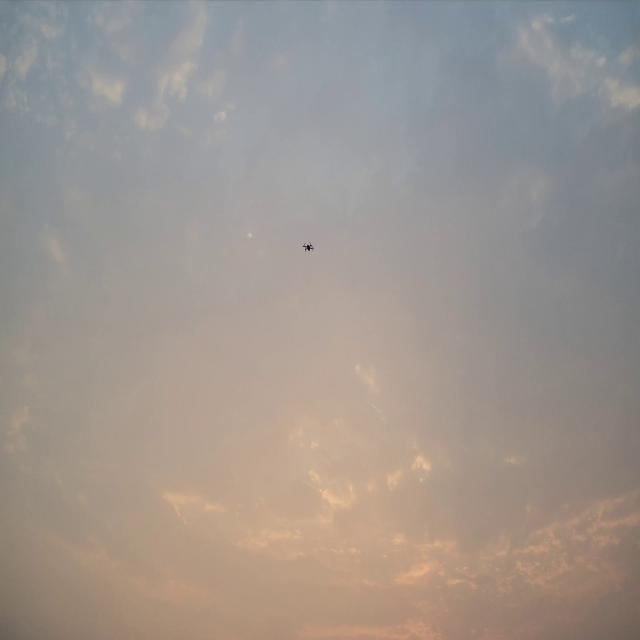drone: (302, 241, 314, 252)
